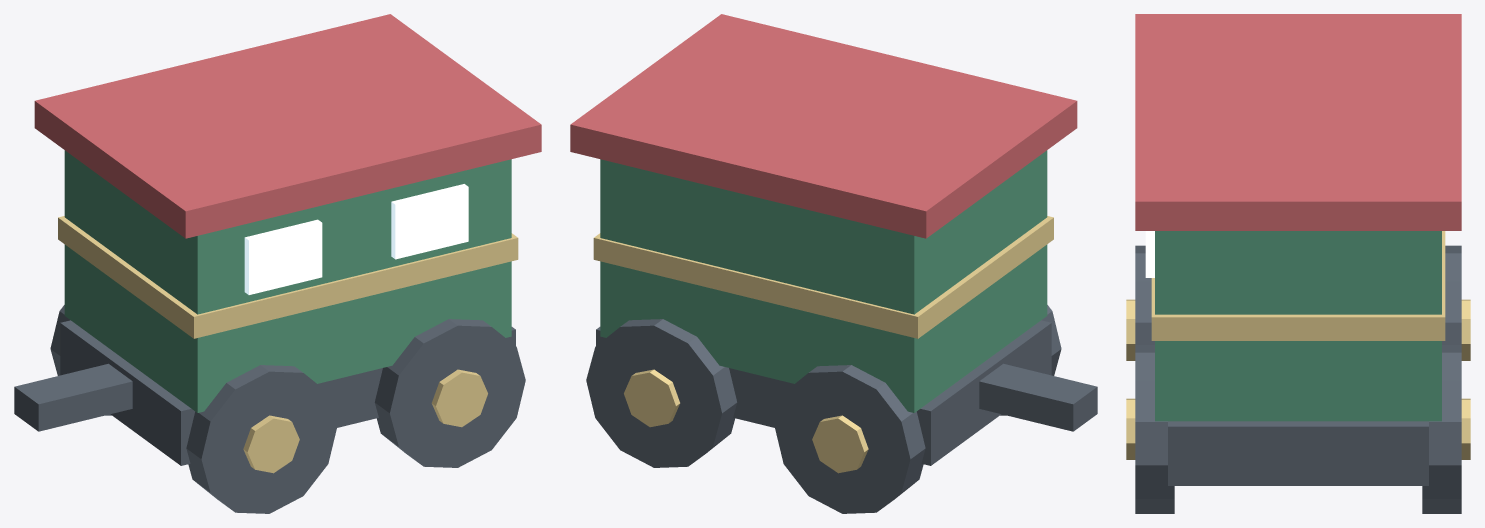
File: toy_train_carriage.glb
3 views of the same model, side by side, from view 1: azimuth 30°, elevation 25°; view 2: azimuth 150°, elevation 25°; view 3: azimuth 270°, elevation 25° (orthographic). The views are drawn at different scales.
Visible parts, largest first — view 1: Carriage roof, Carriage, Coupling, Carriage hub.0.38.-1, Carriage window.0.4; view 2: Carriage roof, Carriage, Coupling, Carriage hub.0.38.-1; view 3: Carriage roof, Carriage, Coupling, Carriage hub.0.38.-1, Carriage window.0.4.
Boxes of the visible parts, x1,y1,x2,y2 form: Carriage roof: [34, 14, 541, 238]; Carriage: [64, 150, 511, 412]; Coupling: [14, 305, 525, 513]; Carriage hub.0.38.-1: [58, 216, 518, 473]; Carriage window.0.4: [244, 184, 468, 294]; Carriage roof: [570, 14, 1077, 238]; Carriage: [600, 150, 1047, 412]; Coupling: [586, 305, 1097, 513]; Carriage hub.0.38.-1: [593, 216, 1053, 473]; Carriage roof: [1135, 14, 1461, 230]; Carriage: [1155, 231, 1441, 421]; Coupling: [1135, 245, 1461, 513]; Carriage hub.0.38.-1: [1126, 231, 1470, 459]; Carriage window.0.4: [1145, 231, 1154, 277].
Size of the model in its own units: 0.42 by 0.295 by 0.264.
